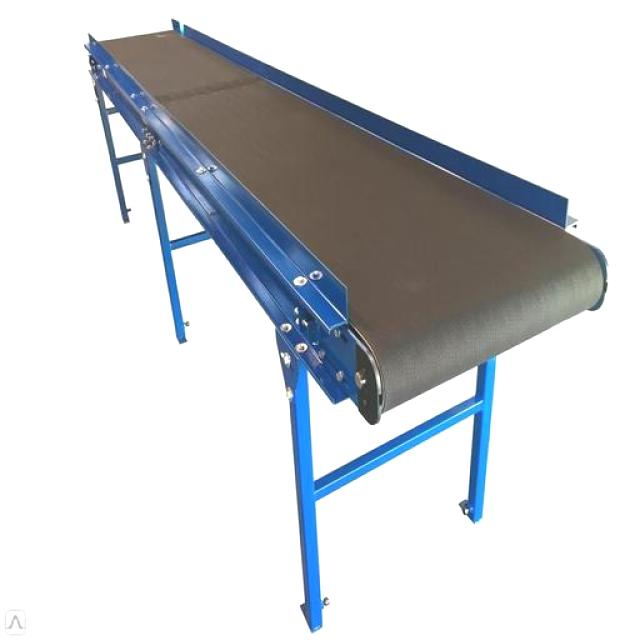conveyor: (93, 24, 608, 368)
